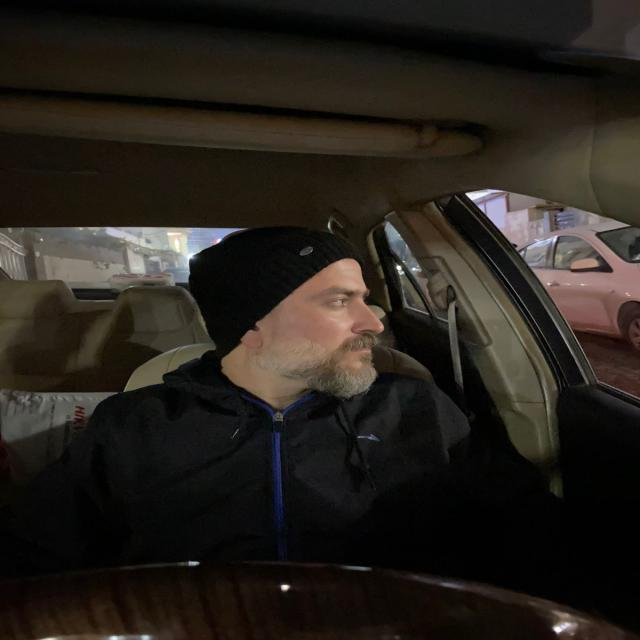LeftRight: (201, 220, 395, 424)
